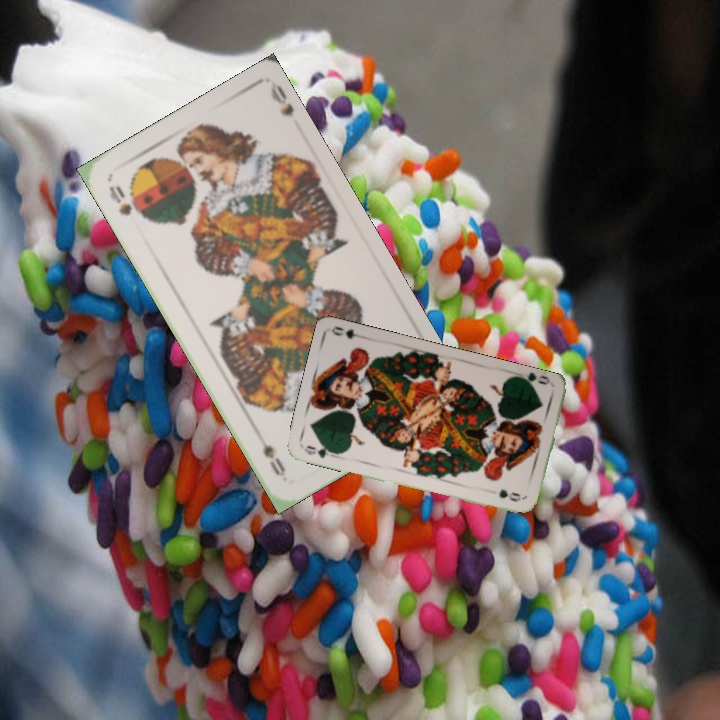GO: (512, 369, 552, 391), (300, 441, 341, 461)
SO: (105, 181, 142, 219)
